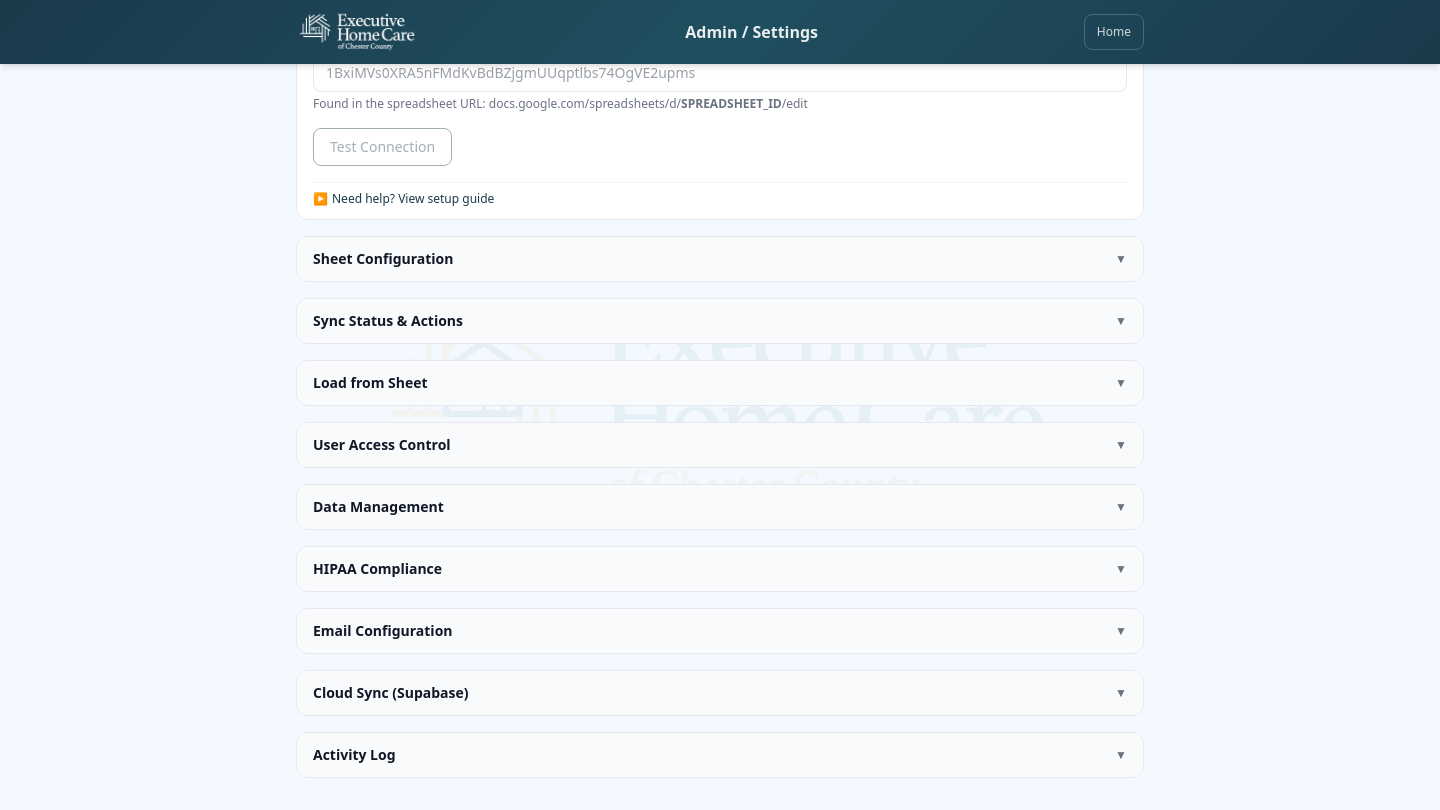
Test: SettingsScreen › Supabase org info › shows org name when accordion expanded
(page scrolled)
Click the text "Cloud Sync (Supabase)": (391, 693) [313,683,468,703]
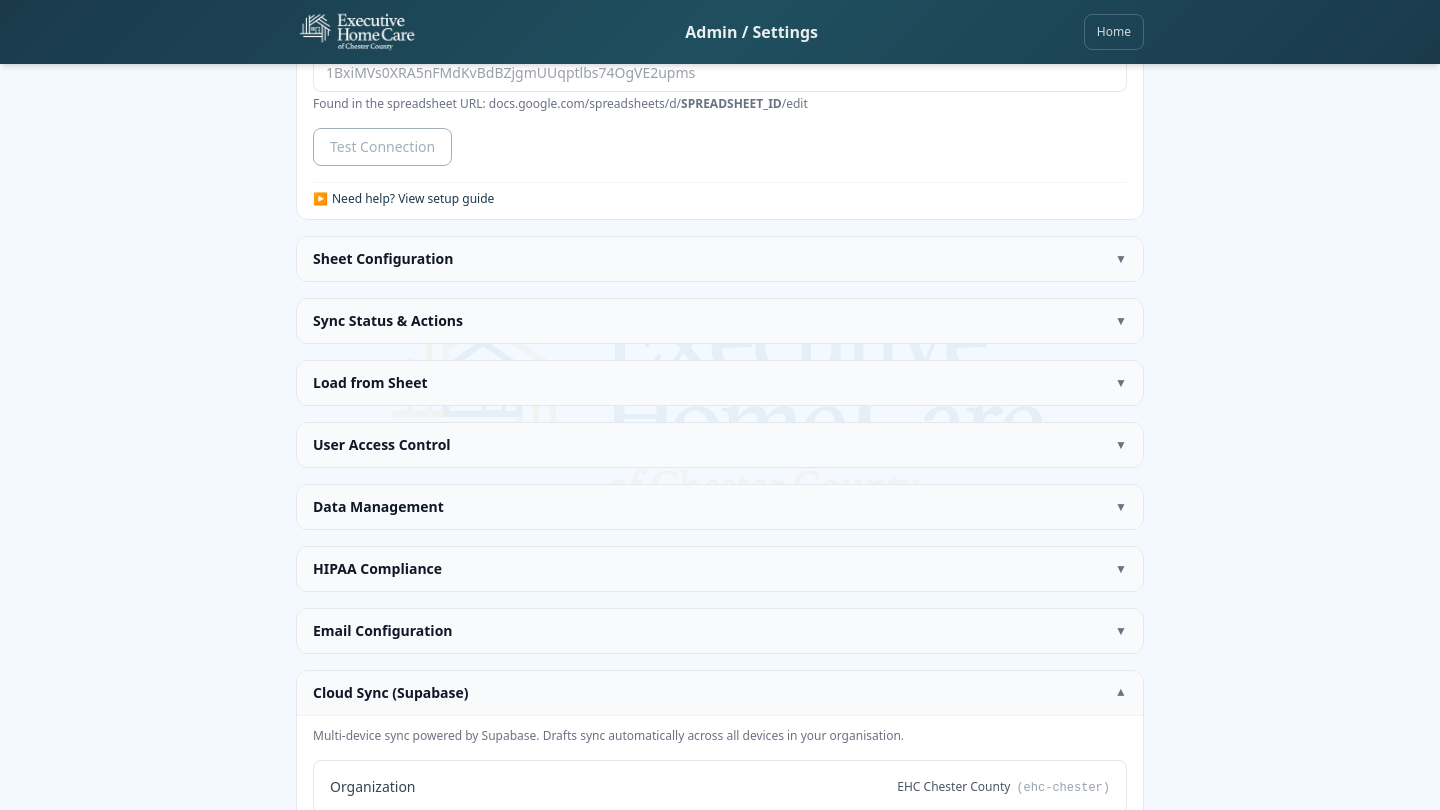
Expected: the text "EHC Chester County" is shown, [897,778,1010,794]
